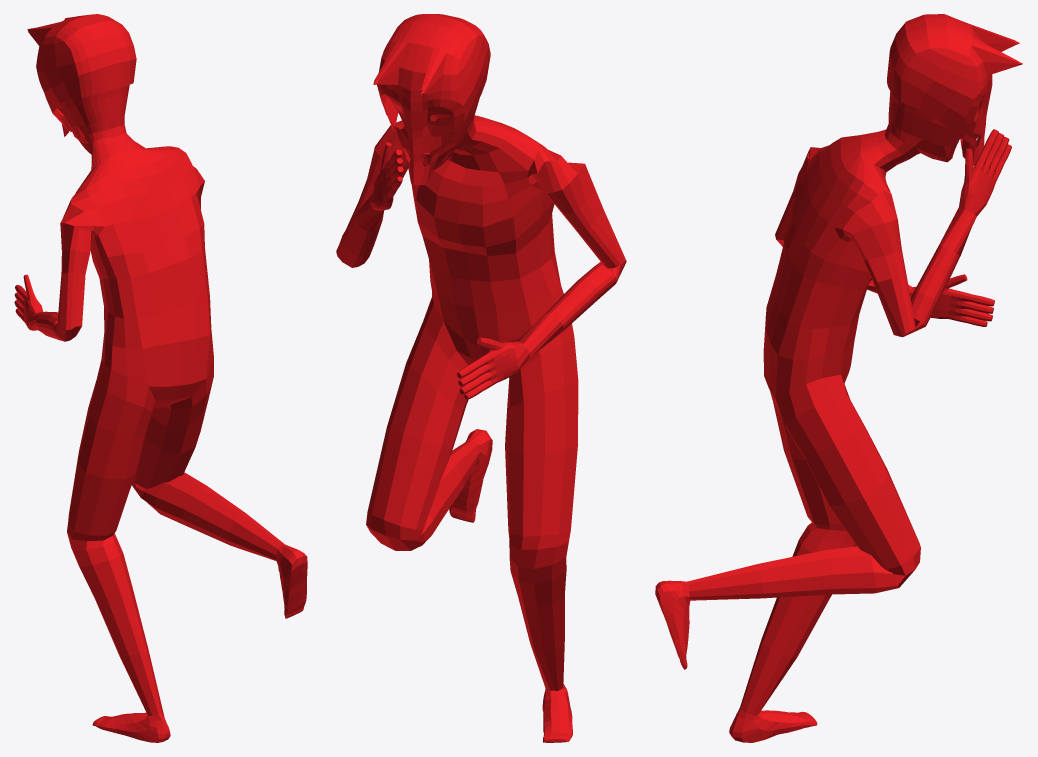
File: correrE_000089.obj
The picture shows the model from 3 angles, left to right: view 1: azimuth 30°, elevation 25°; view 2: azimuth 150°, elevation 25°; view 3: azimuth 270°, elevation 25°; orthographic projection. The views are drawn at different scales.
Parts seen in each view (by area): view 1: Plane.002_Plane.001; view 2: Plane.002_Plane.001; view 3: Plane.002_Plane.001.
Boxes of the visible parts, x1,y1,x2,y2 form: Plane.002_Plane.001: (14,14,307,742); Plane.002_Plane.001: (336,14,626,742); Plane.002_Plane.001: (655,14,1022,742).
Size of the model in its own units: 2.08 by 6.53 by 2.99.
